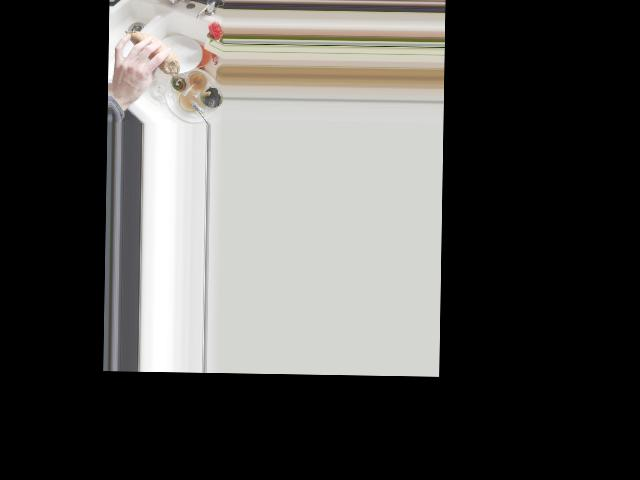sweet_potato: (123, 31, 178, 75)
